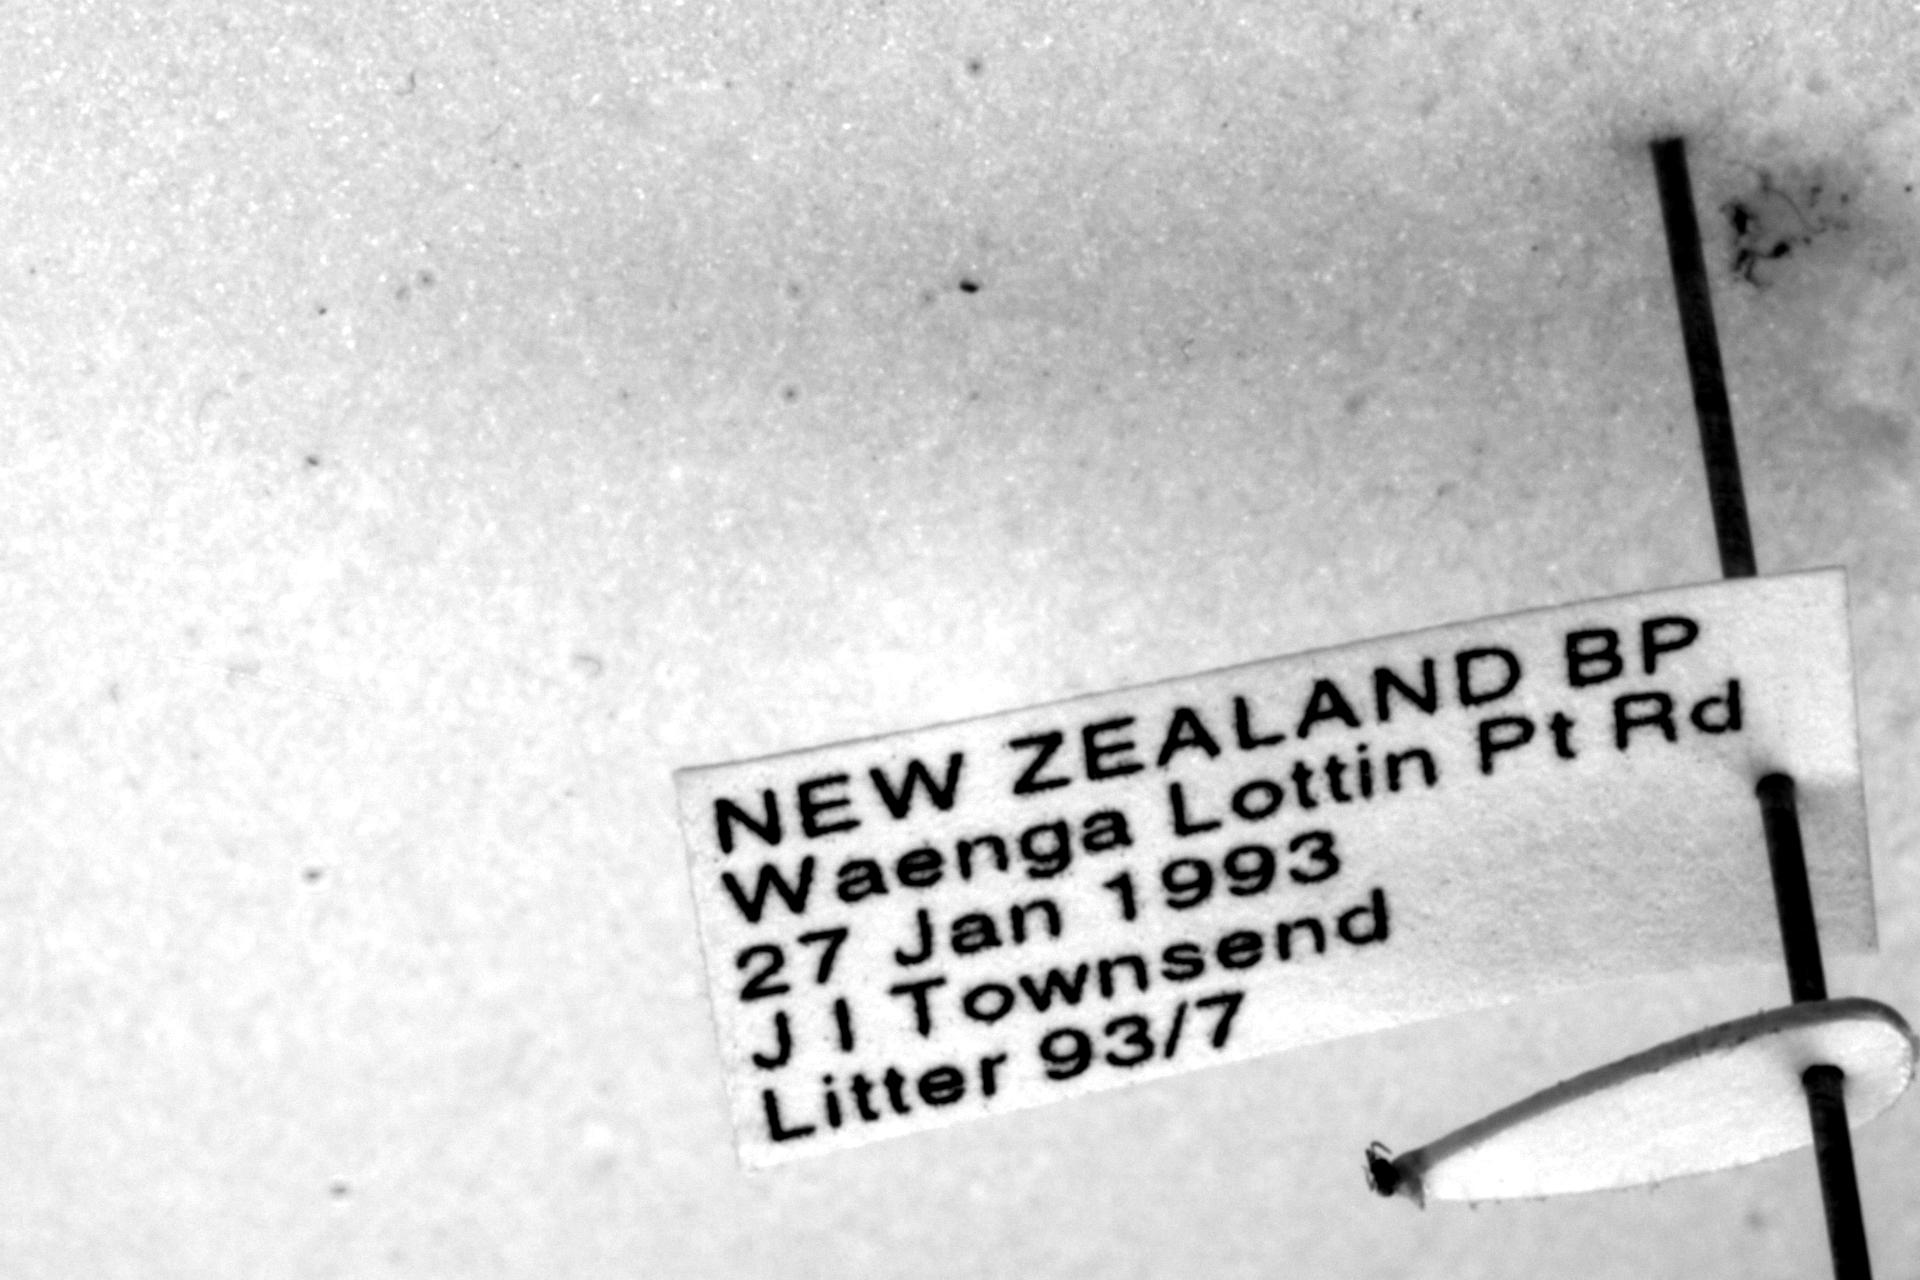typed_label: (675, 570, 1875, 1166)
